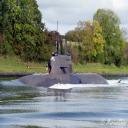submarine: (16, 38, 110, 87)
